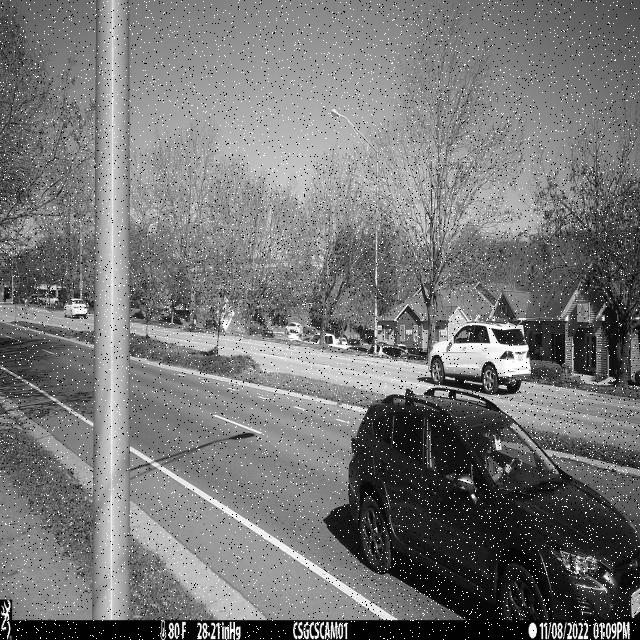SUV: (348, 386, 640, 622)
